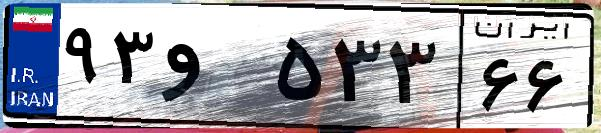3: (385, 28, 445, 110), (330, 28, 385, 110), (110, 28, 158, 98)
5: (270, 28, 330, 110)
6: (475, 38, 525, 113), (525, 38, 570, 115)
9: (57, 26, 110, 100)
و: (158, 20, 270, 120)
